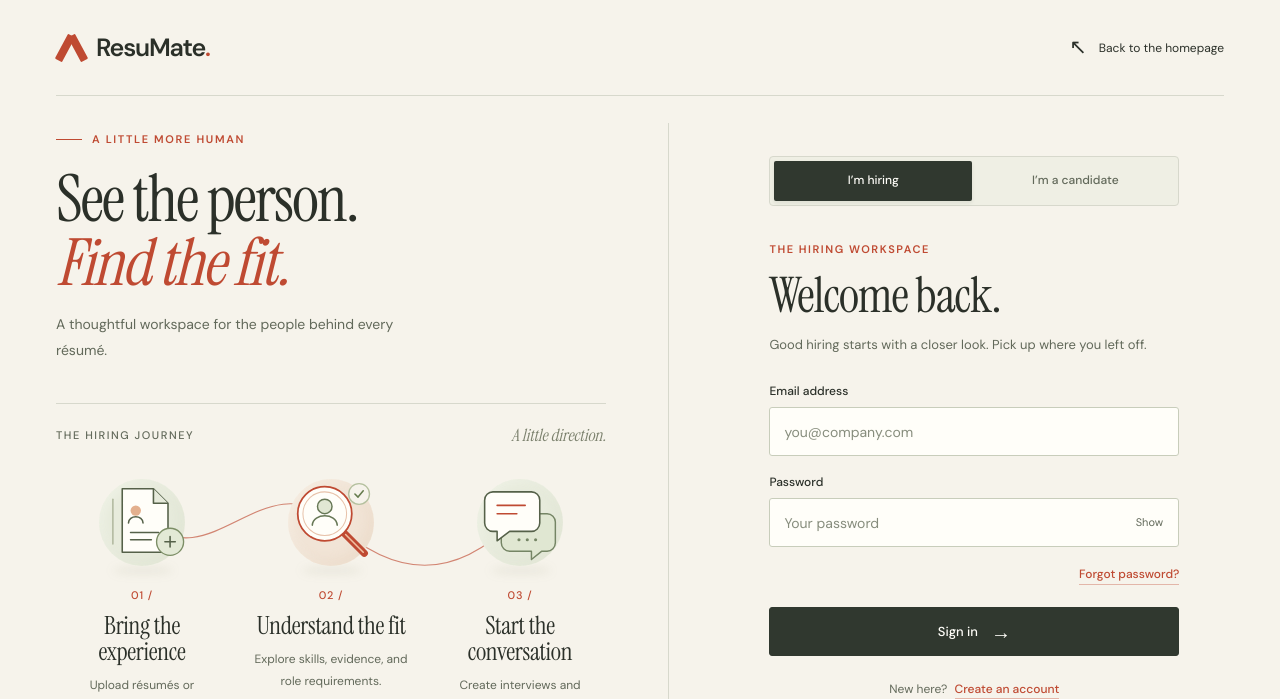
Test: before anything is sent › names each missing field, points at them, and puts the keyboard on the first
The width and height of the screenshot is (1280, 699).
Click the button "Sign in →" at (974, 632), box [769,607,1179,656]
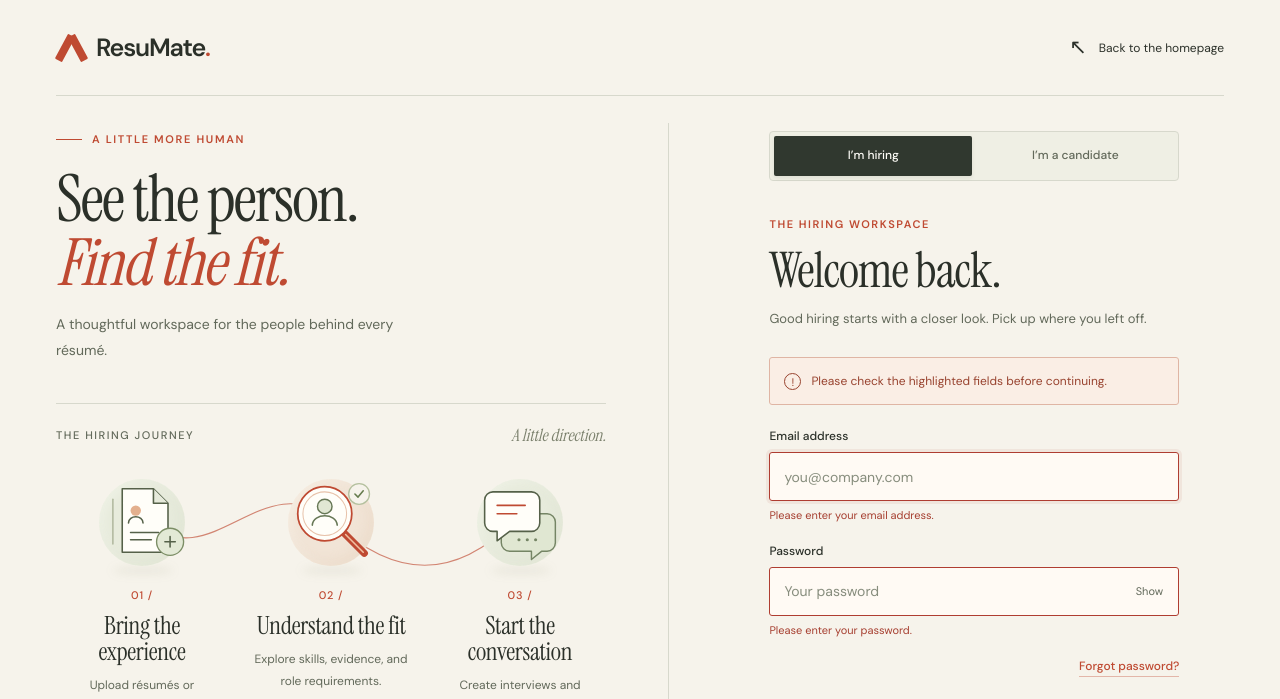
Expected: the message shows "Please check the highlighted fields before continuing.", [811,373,1107,389]
Expected: the text "Please enter your email address." is shown, [769,508,934,522]
Expected: the text "Please enter your password." is shown, [769,623,912,637]
